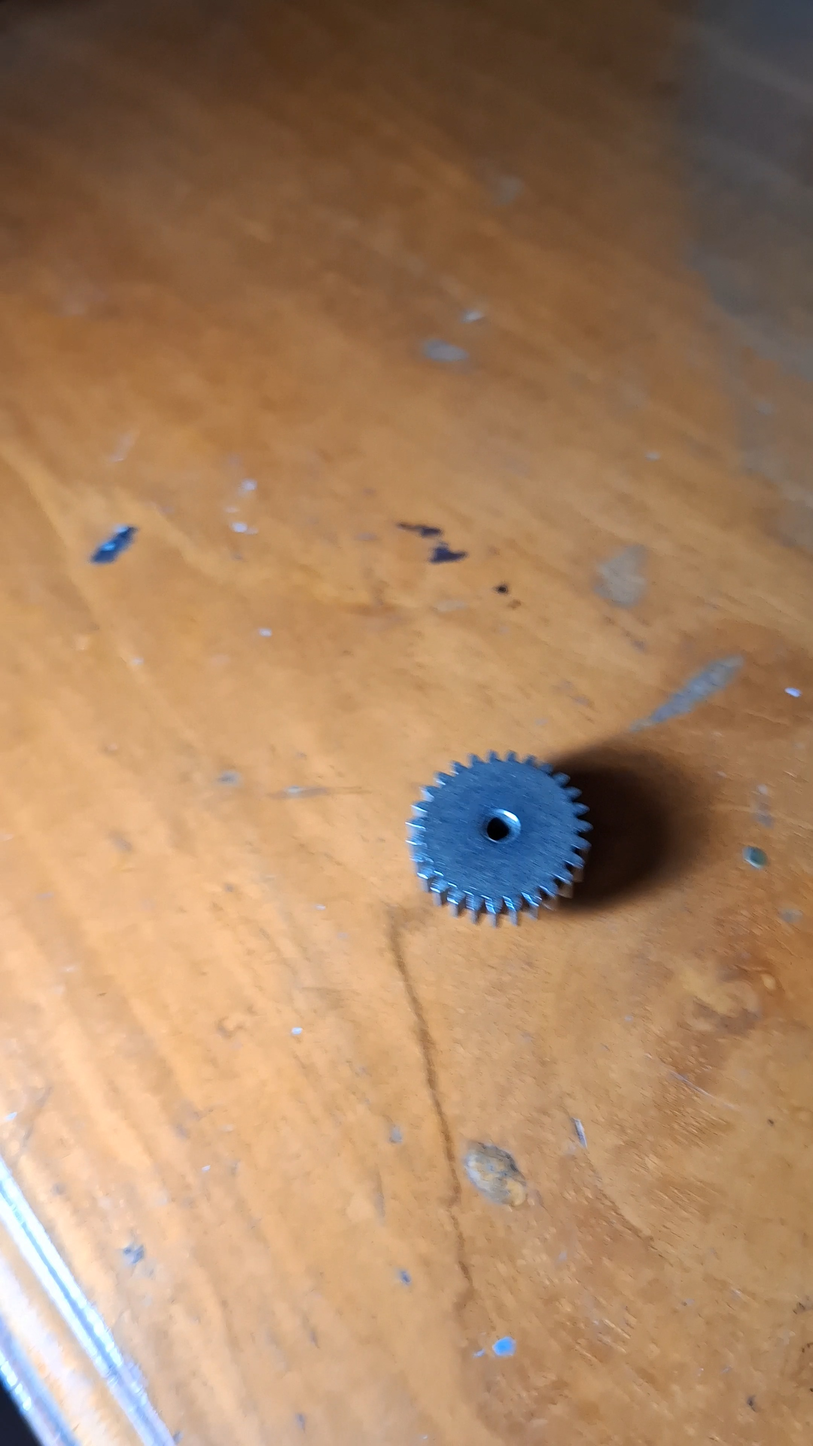spur gear: (408, 752, 591, 923)
